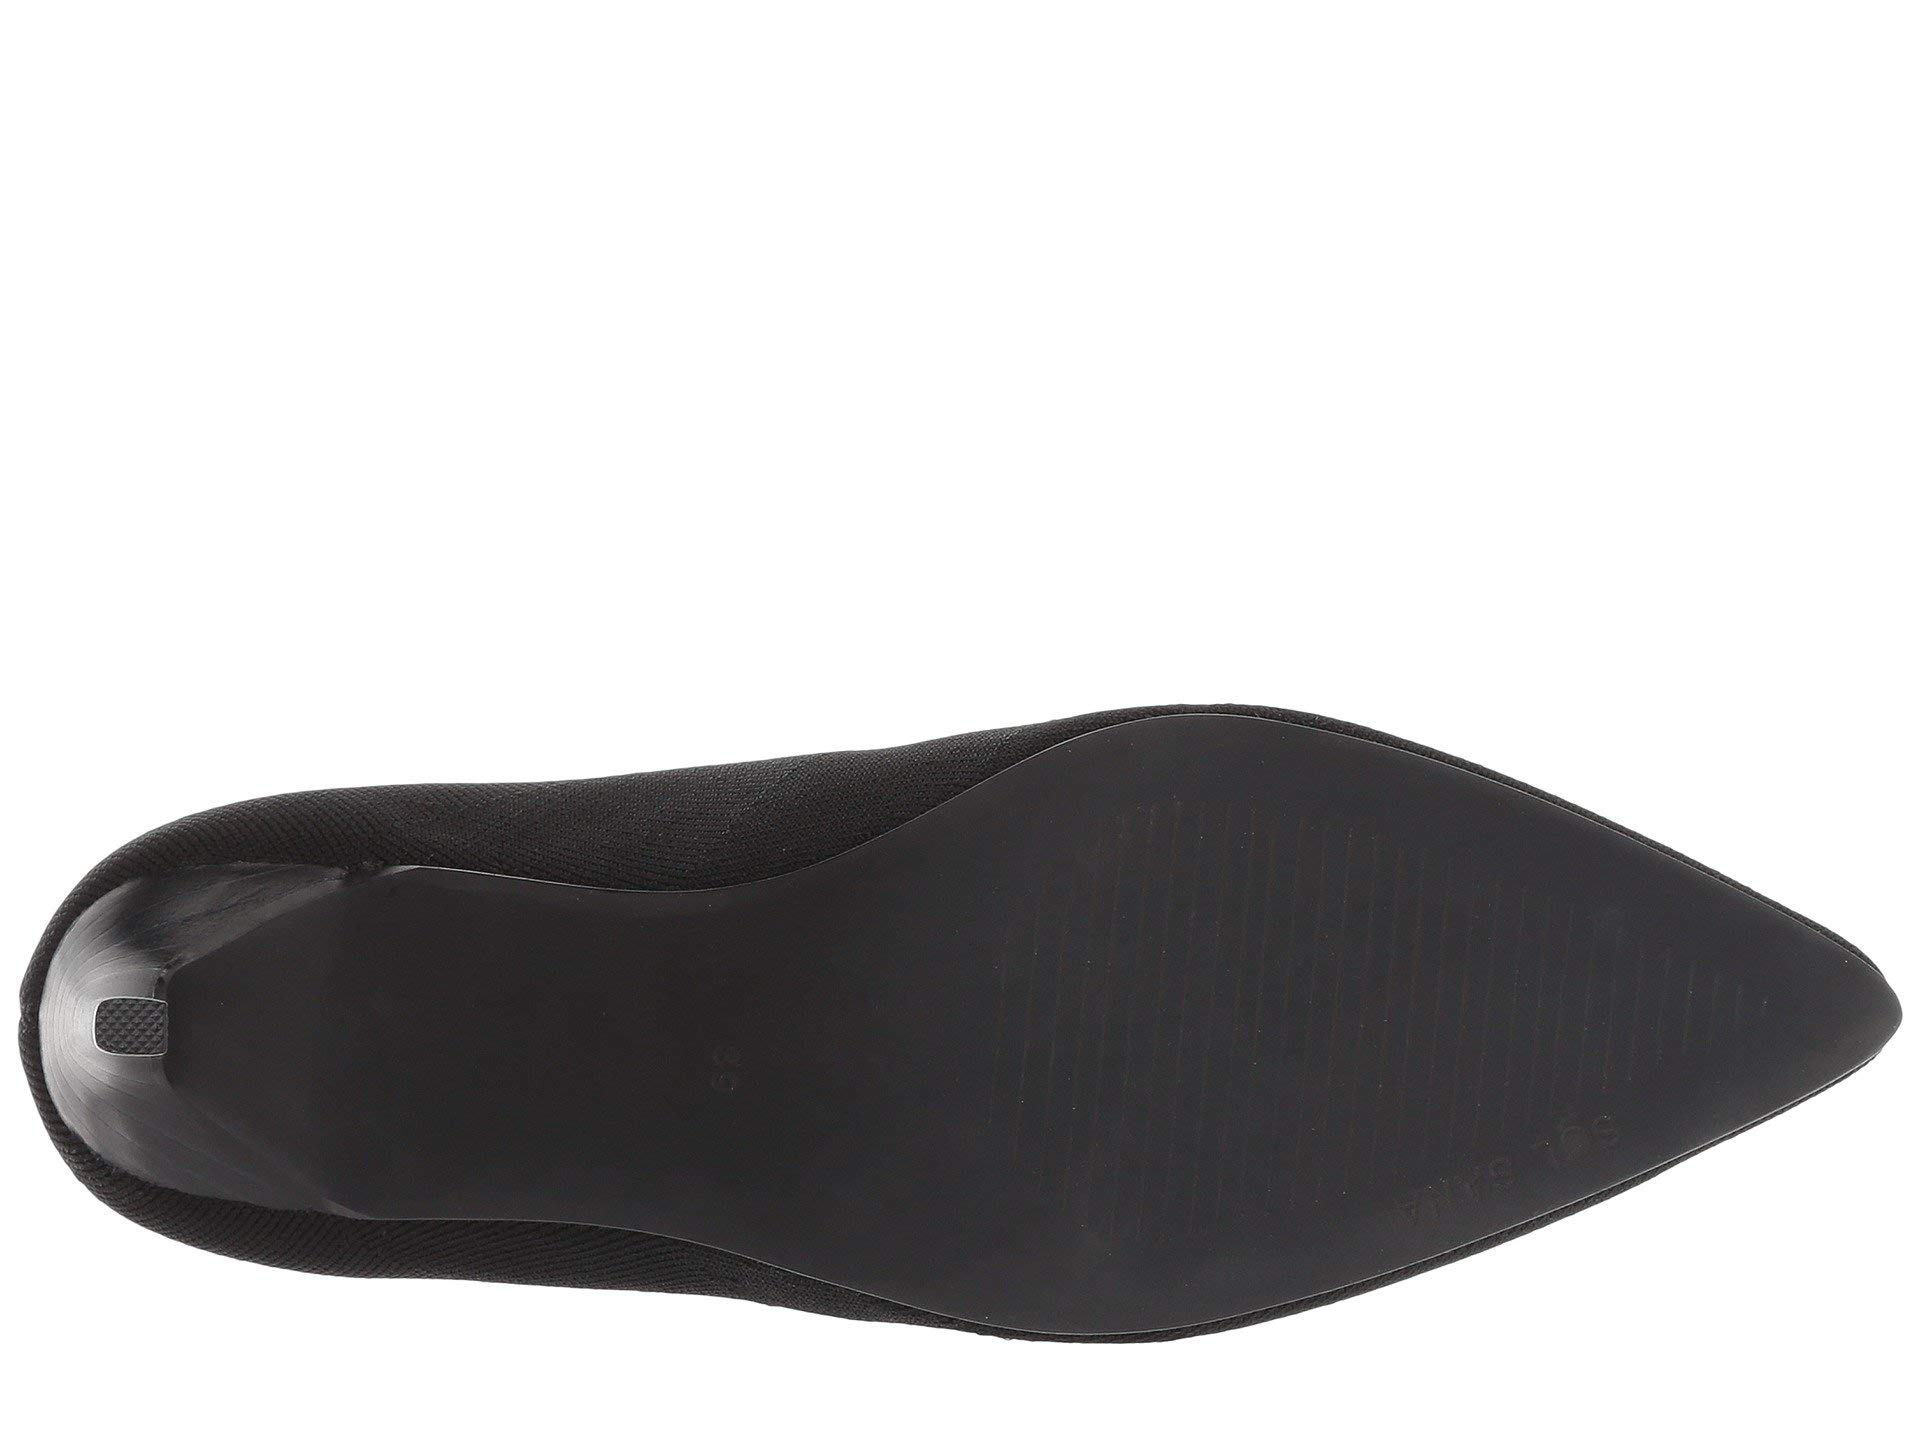line: (1147, 911, 1414, 1169)
